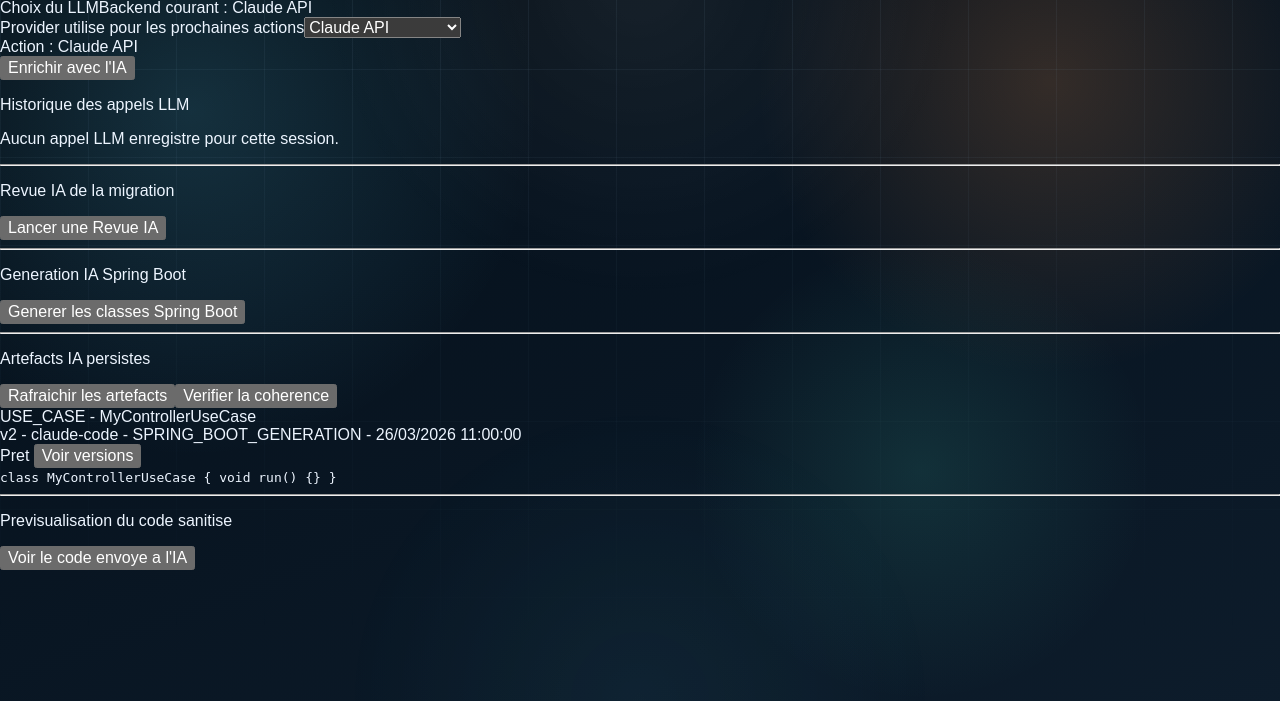
Test: AiEnrichmentViewComponent › should show confirm modal on first enrich click when no audit entries exist
Click the button with class "enrich-btn": (67,68) [0,56,135,80]
(page scrolled)
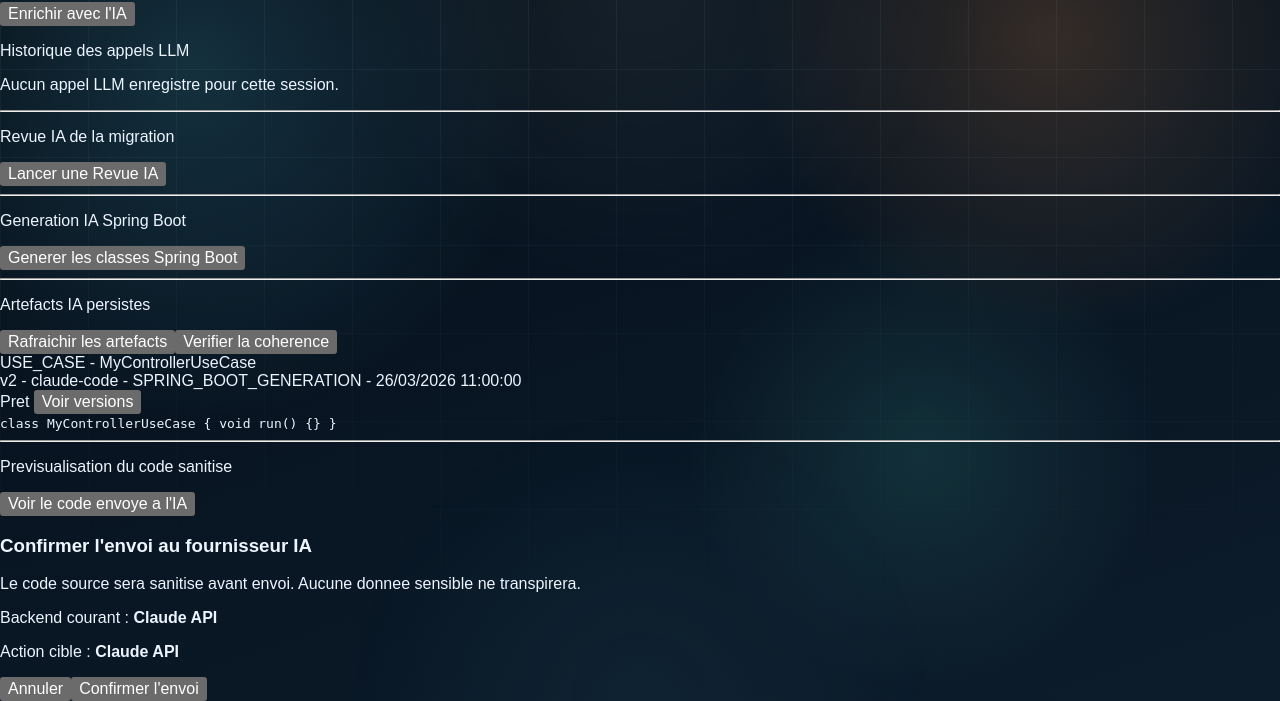
Expected: the dialog with class "confirm-overlay" is shown, [0,535,581,700]
Expected: the dialog with class "confirm-overlay" shows "Confirmer l'envoi au fournisseur IA", [0,535,312,556]
